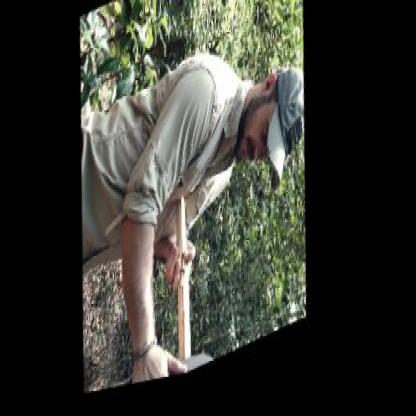knife: (143, 330, 227, 388)
